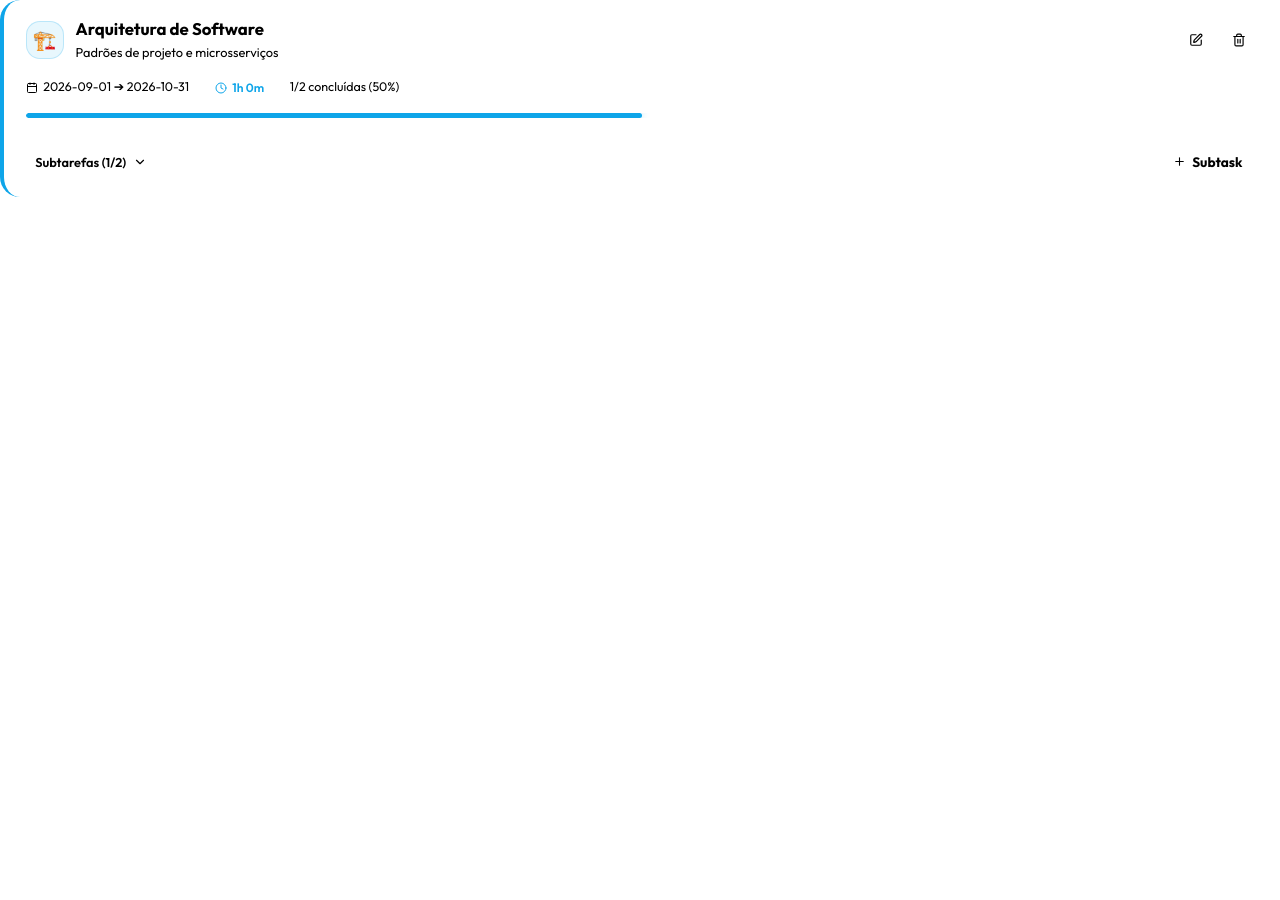
Test: Ações de Projetos (CRUD, Confirmação Customizada e Detalhes) › deve cancelar a exclusão do projeto ao clicar em Cancelar no modal
This screenshot has width=1280, height=900.
Click the button titled "Excluir Projeto": (1239, 40) [1220,21,1258,59]
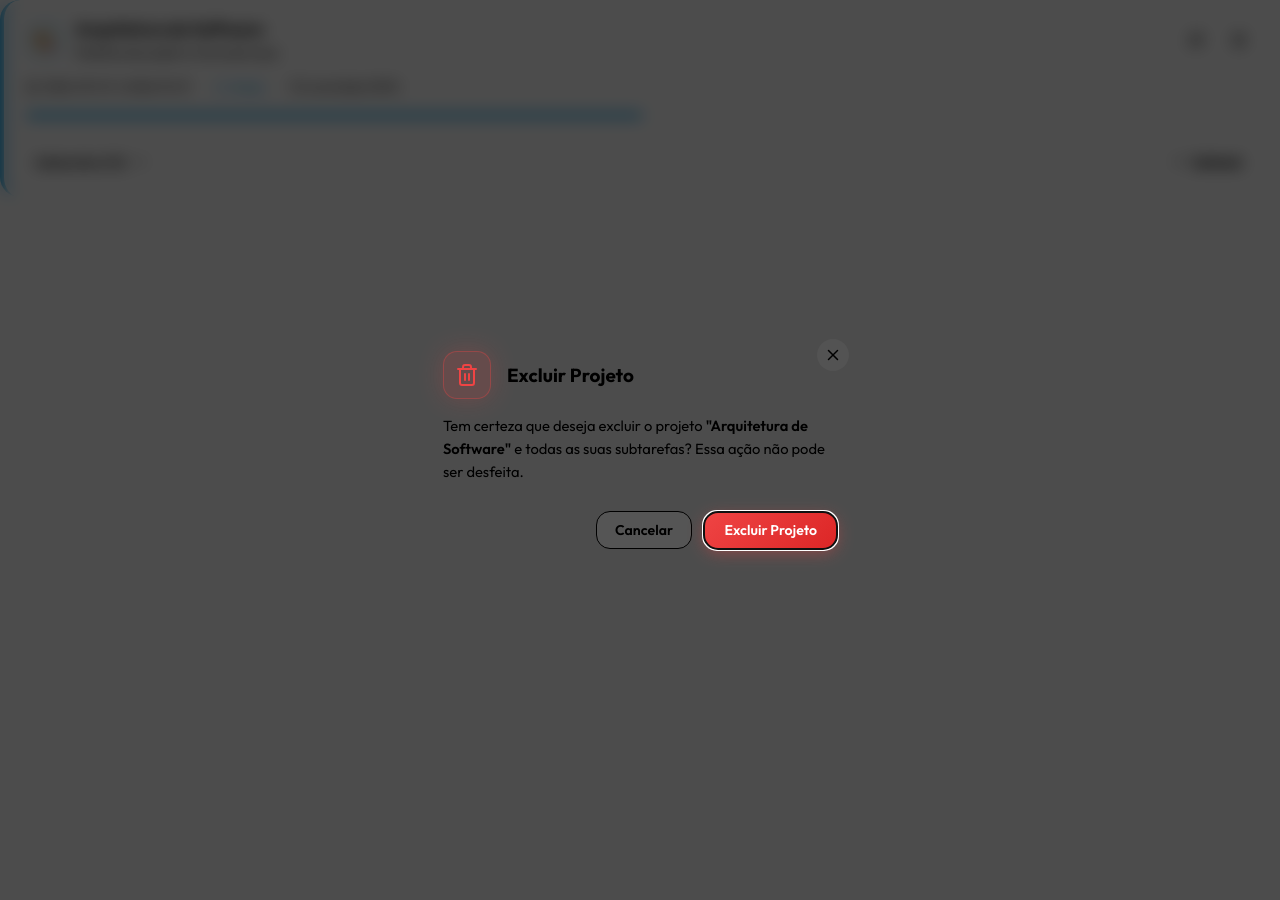
Click the button with test id "confirm-modal-cancel": (644, 530) [596,511,692,549]
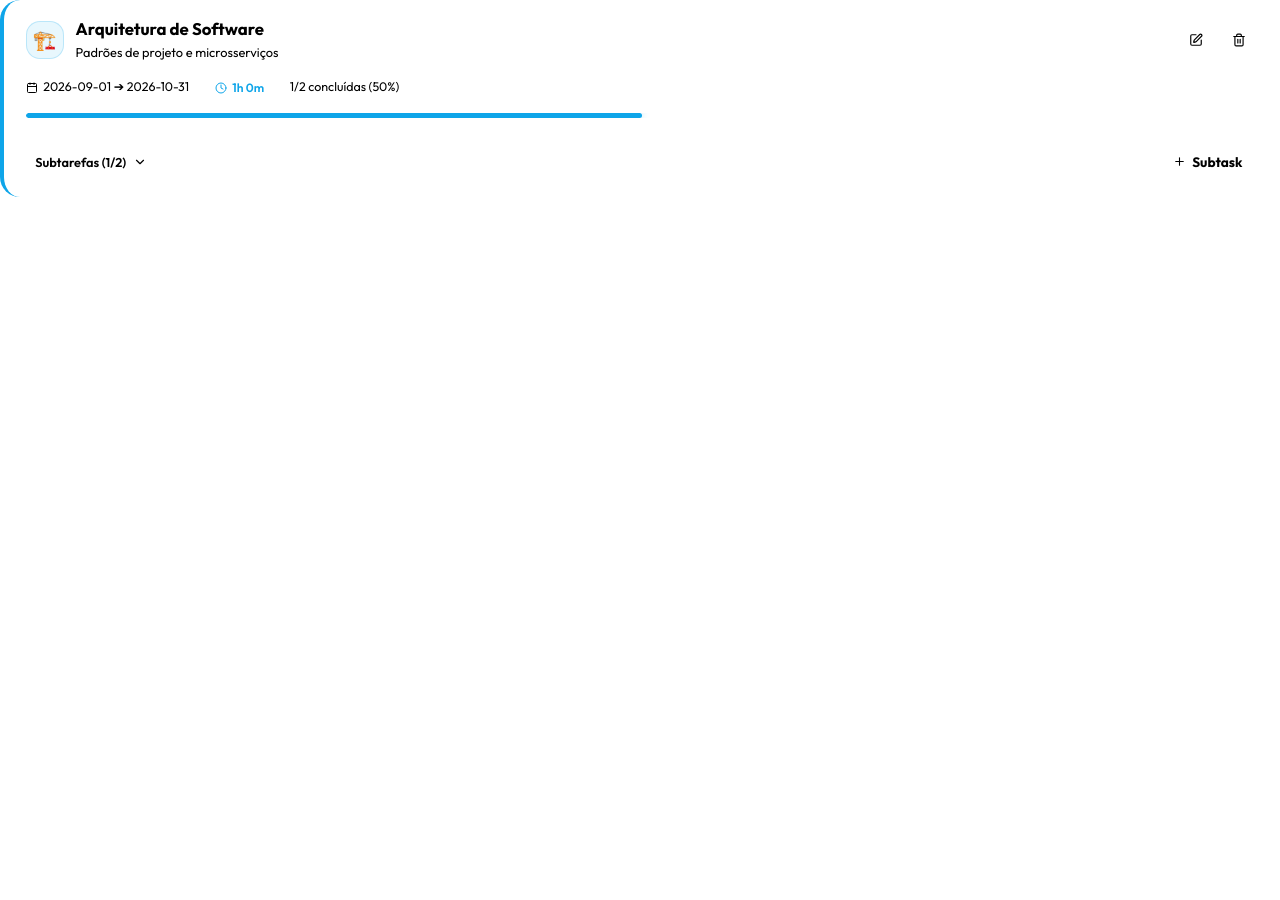
Expected: the dialog with test id "confirm-modal" is gone
